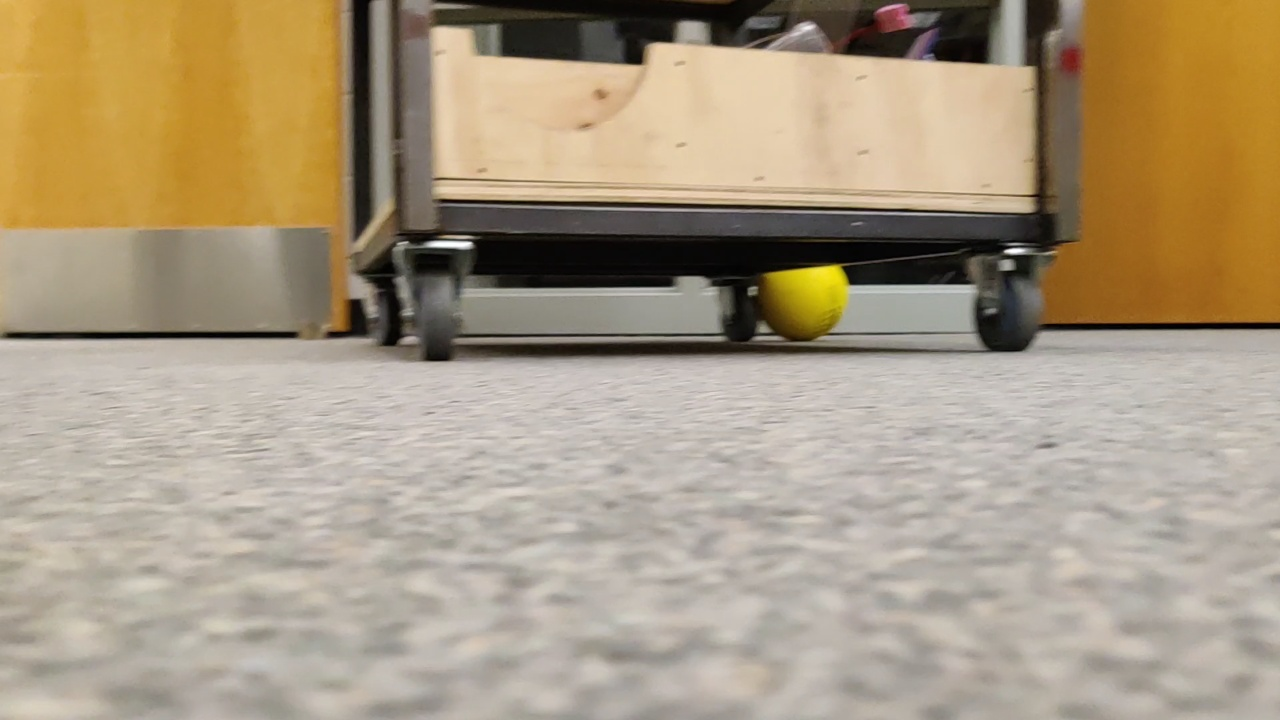Ball: (753, 258, 853, 348)
